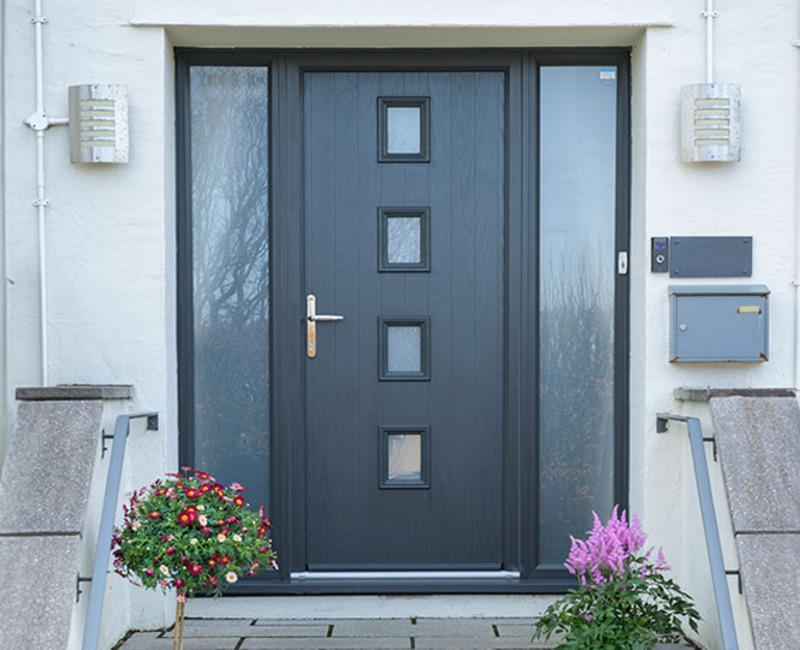doorbell: (644, 222, 669, 276)
